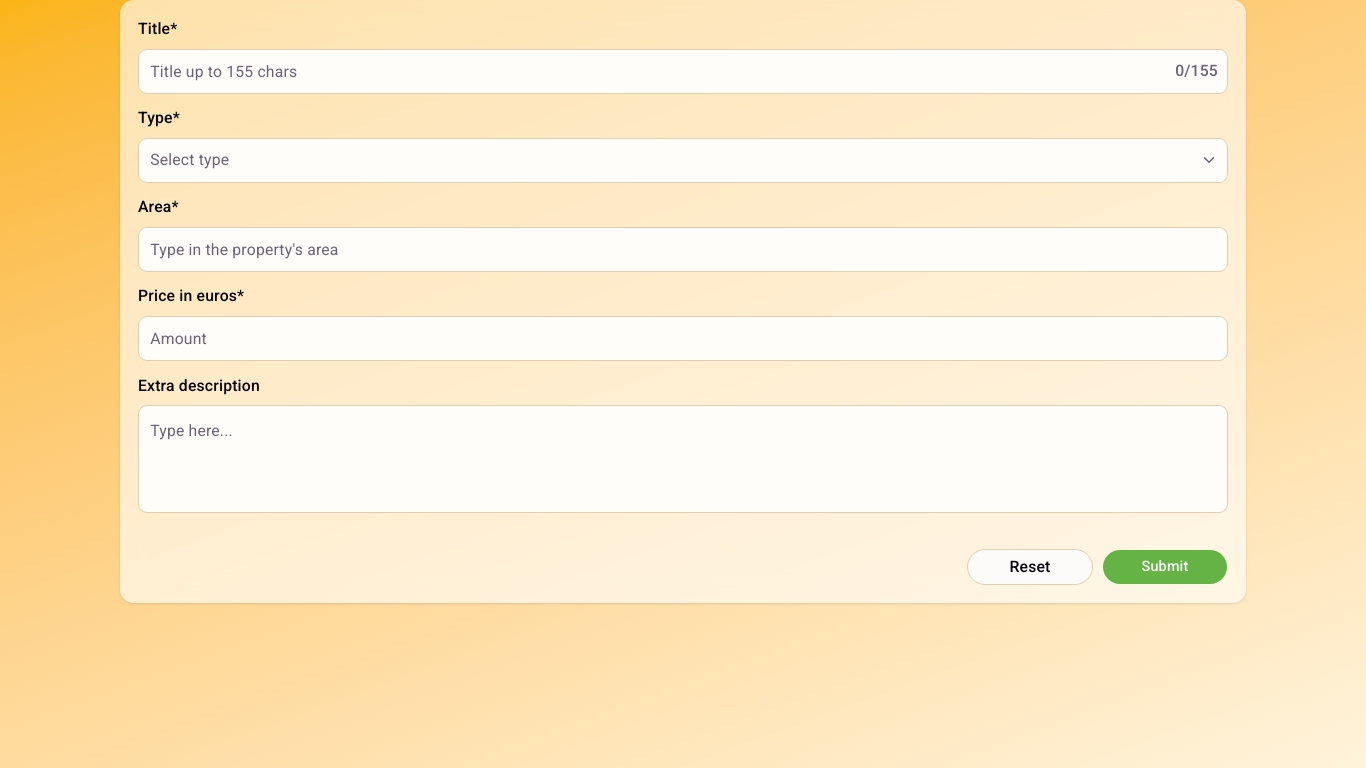
Form › Autocomplete › should fill in and accept the selected area
In the dropdown labelled "Area*": {"x": 683, "y": 250} [138,227,1228,272], type "Olymp"
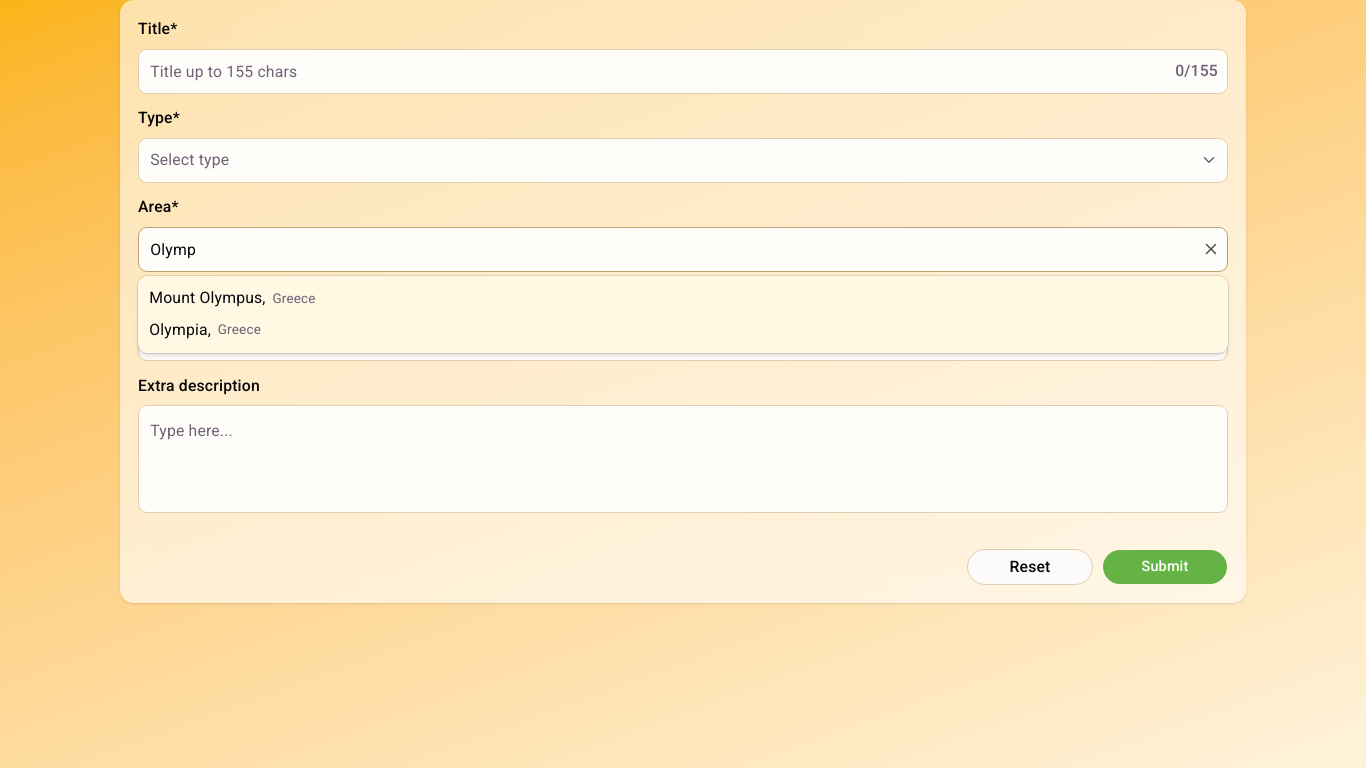
Click the option "Mount Olympus, Greece": {"x": 232, "y": 298} [149,288,316,307]
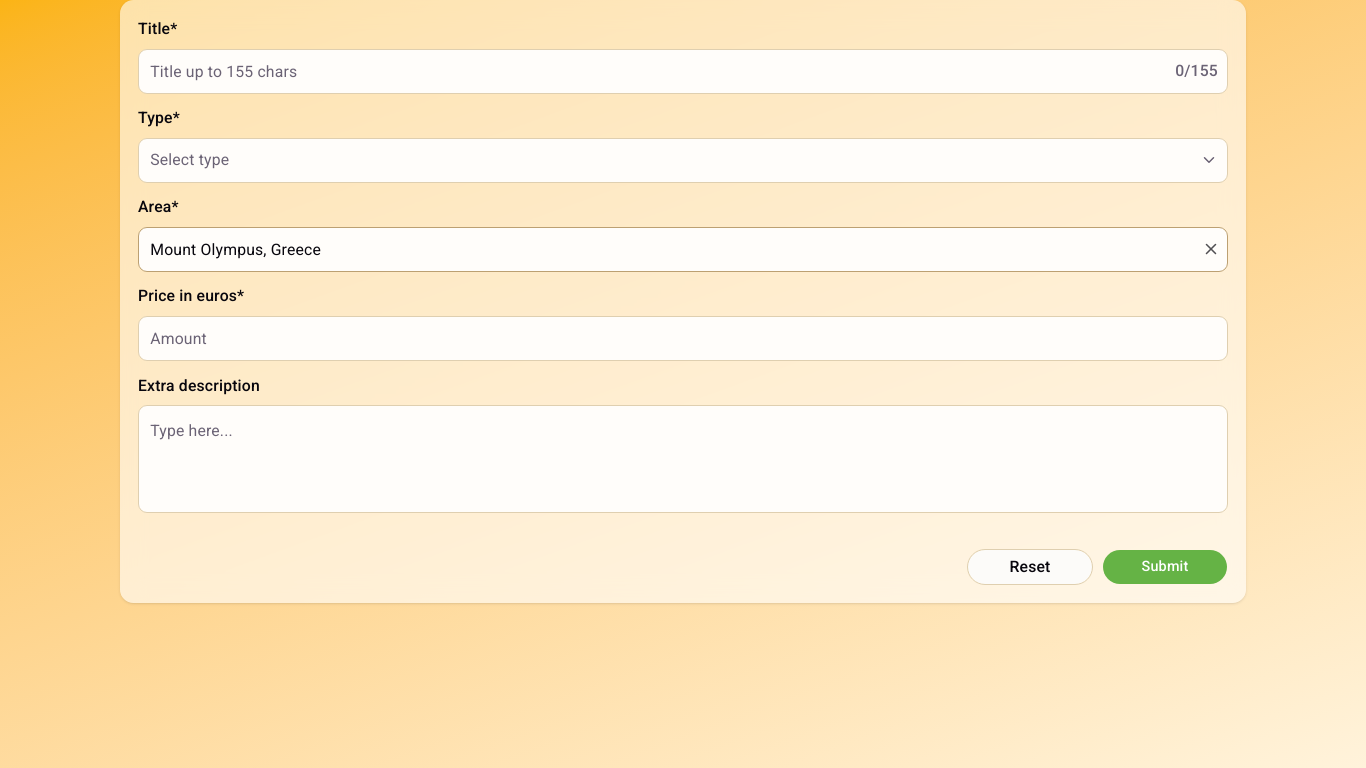
Now the dropdown labelled "Area*" holds "Mount Olympus, Greece", box [138,227,1228,272]
